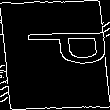P_E: (5, 35, 105, 75)
